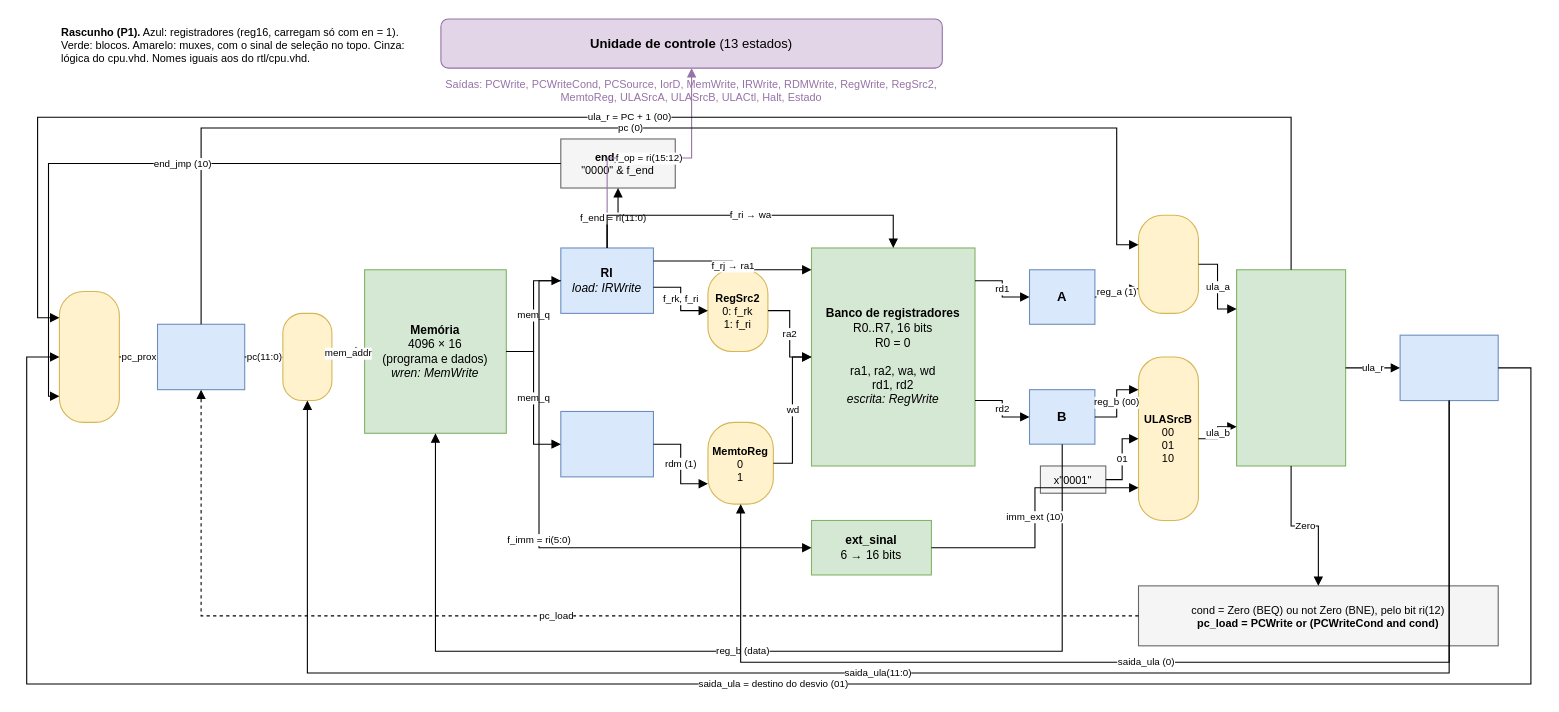
The diagram is 1559 pixels wide and 712 high, and some of its shapes have lost their labels. Here are the shapes that lost their labels. From the top down, the box of each, then its label:
(1137, 214, 1198, 313): ULASrcA 0 1
(58, 290, 119, 422): PCSource 00 01 10
(156, 323, 245, 390): PC load: pc_load
(282, 312, 332, 401): IorD 0 1
(1236, 269, 1346, 466): ULA (Lab04) ULACtl R, Zero
(1399, 334, 1498, 401): SaídaULA
(560, 410, 653, 477): RDM load: RDMWrite
